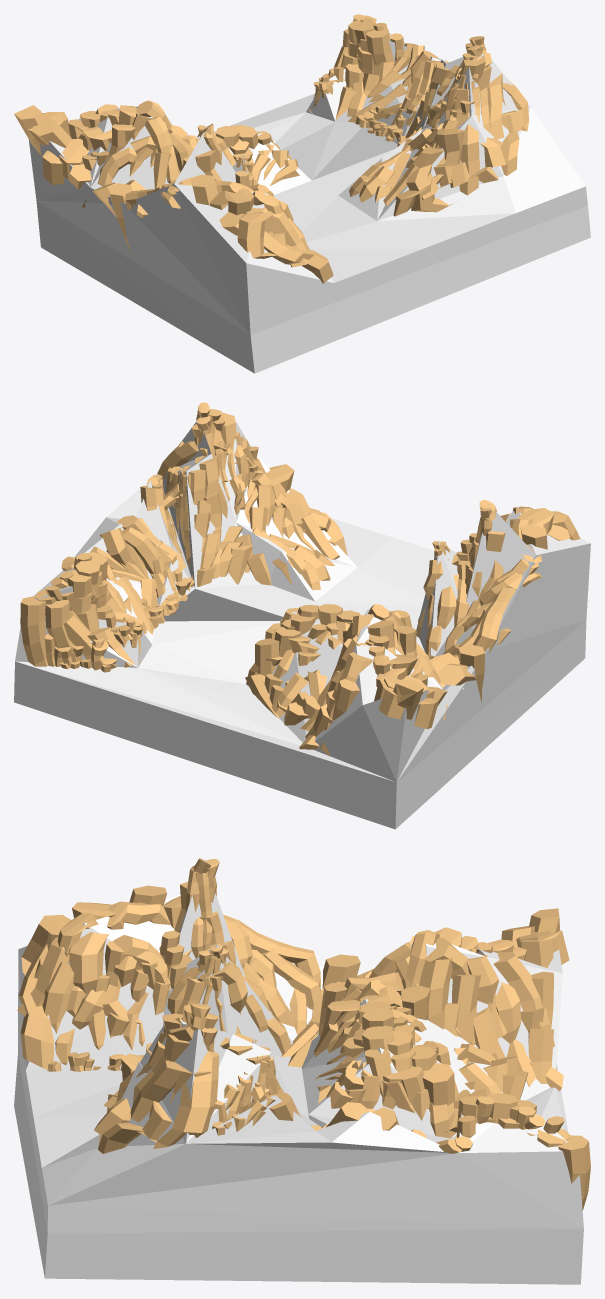
The model's file is snow1_lev5.glb.
3 renders of one model, top to bottom at view 1: azimuth 30°, elevation 25°; view 2: azimuth 150°, elevation 25°; view 3: azimuth 270°, elevation 25°, orthographic. The views are drawn at different scales.
Visible parts, largest first — view 1: group1213442301, group1232652771, group1020127045, group1915387679, group1830459623, group981096431, group2094047803, group2008133471, group1276007313, group580696851, group195784626, group1542709137 (+6 smaller); view 2: group1213442301, group1232652771, group1513979947, group1020127045, group1098835944, group1915387679, group1175089405, group2094047803, group2008133471, group207062719, group1276007313, group1402888313 (+21 smaller); view 3: group1213442301, group1232652771, group1915387679, group1020127045, group1830459623, group2094047803, group235236272, group1402888313, group788433588, group1195345600, group1098835944, group246772319 (+41 smaller).
Boxes of the visible parts, left/top/right/bottom form: group1213442301: left=28, top=33, right=590, bottom=373; group1232652771: left=406, top=65, right=521, bottom=199; group1020127045: left=191, top=174, right=310, bottom=267; group1915387679: left=393, top=68, right=529, bottom=216; group1830459623: left=219, top=212, right=333, bottom=283; group981096431: left=42, top=138, right=91, bottom=189; group2094047803: left=28, top=112, right=72, bottom=147; group2008133471: left=68, top=110, right=109, bottom=170; group1276007313: left=83, top=105, right=137, bottom=150; group580696851: left=366, top=28, right=394, bottom=66; group195784626: left=98, top=147, right=136, bottom=185; group1542709137: left=144, top=116, right=172, bottom=153; group1213442301: left=14, top=421, right=590, bottom=829; group1232652771: left=179, top=439, right=331, bottom=531; group1513979947: left=20, top=596, right=48, bottom=666; group1020127045: left=518, top=508, right=580, bottom=549; group1098835944: left=472, top=587, right=515, bottom=653; group1915387679: left=157, top=441, right=347, bottom=555; group1175089405: left=45, top=599, right=73, bottom=648; group2094047803: left=374, top=676, right=427, bottom=719; group2008133471: left=368, top=645, right=427, bottom=686; group207062719: left=44, top=634, right=91, bottom=668; group1276007313: left=367, top=620, right=418, bottom=675; group1402888313: left=320, top=652, right=372, bottom=756; group1213442301: left=14, top=859, right=583, bottom=1284; group1232652771: left=94, top=1034, right=211, bottom=1142; group1915387679: left=98, top=1051, right=219, bottom=1153; group1020127045: left=17, top=885, right=166, bottom=1016; group1830459623: left=19, top=944, right=54, bottom=1070; group2094047803: left=501, top=926, right=569, bottom=967; group235236272: left=69, top=932, right=108, bottom=994; group1402888313: left=493, top=952, right=556, bottom=1070; group788433588: left=419, top=958, right=452, bottom=1029; group1195345600: left=452, top=974, right=481, bottom=1045; group1098835944: left=239, top=920, right=320, bottom=986; group246772319: left=42, top=962, right=74, bottom=1033.
Size of the model in its own units: 644 by 364 by 606.
